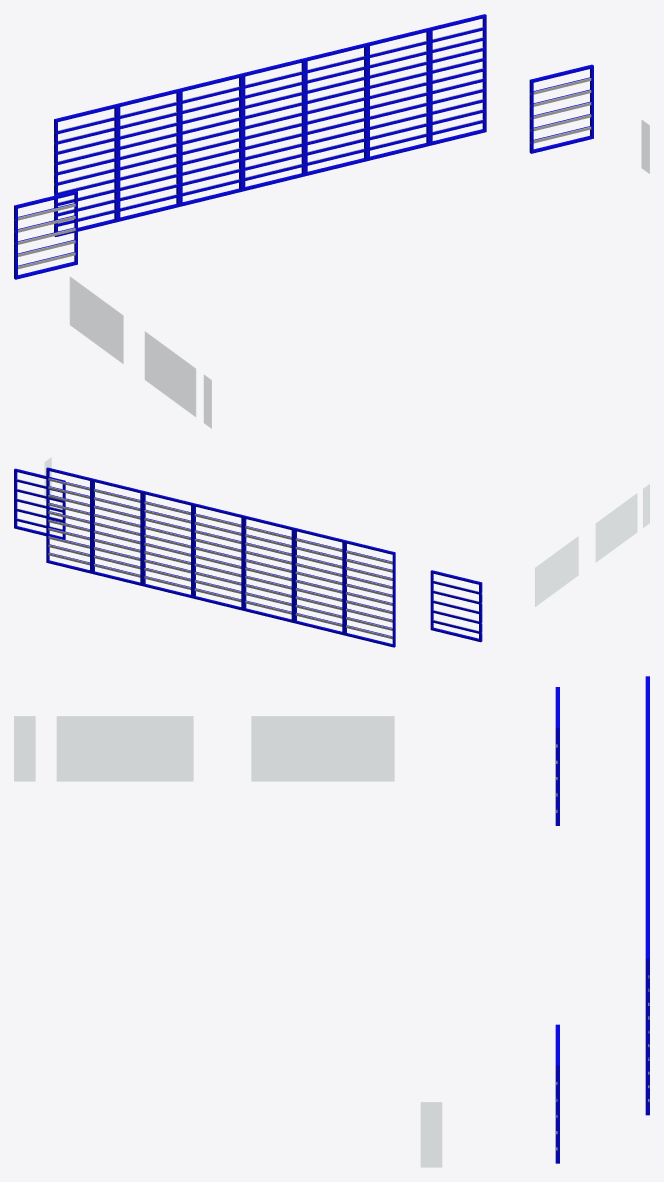
File: model-part.gltf_windows_F1.gltf
3 renders of one model, top to bottom at view 1: azimuth 30°, elevation 25°; view 2: azimuth 150°, elevation 25°; view 3: azimuth 270°, elevation 25°, orthographic. The views are drawn at different scales.
Bounding box in the file's own units: 12.68 × 2.4 × 8.82.
